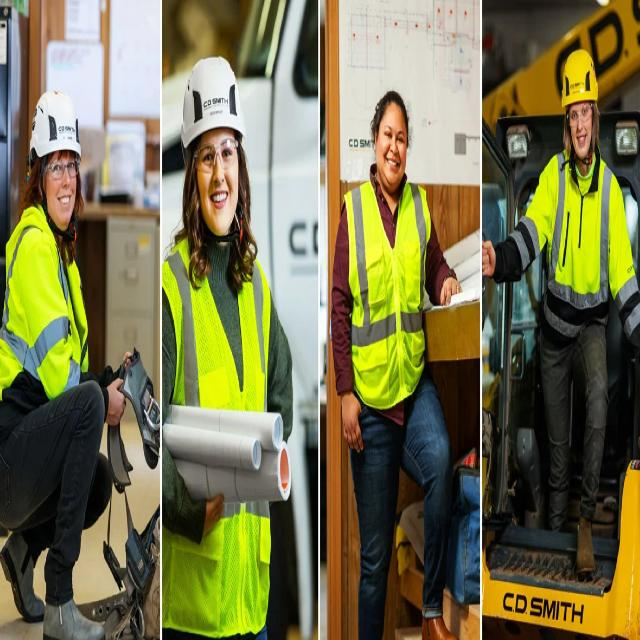Boots: (1, 527, 105, 640), (574, 516, 602, 580), (422, 606, 472, 640)
Hard Hat: (179, 54, 251, 157), (24, 86, 84, 162), (560, 47, 599, 112)
Reflective Vest: (161, 231, 272, 640), (496, 136, 640, 353), (340, 172, 433, 412), (0, 206, 94, 406)
Safety Glasses: (190, 135, 241, 170), (40, 155, 81, 180), (566, 102, 598, 125)
